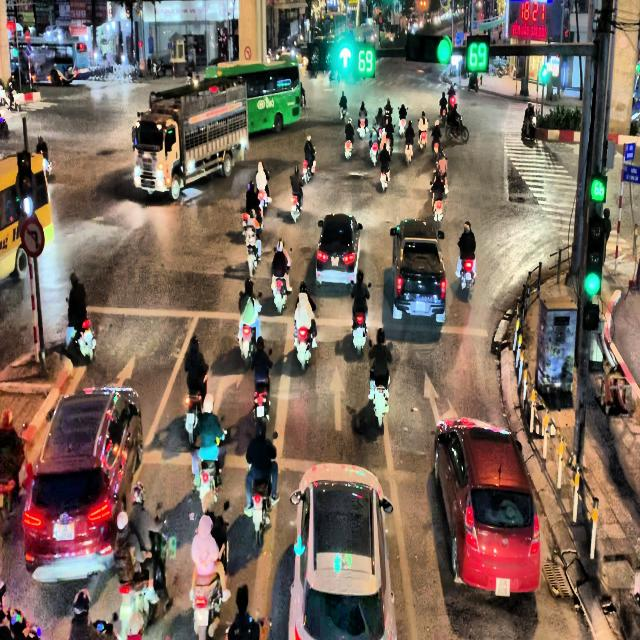lisence_plate: (494, 576, 510, 598), (55, 527, 73, 540), (414, 300, 428, 316), (330, 254, 340, 272)
